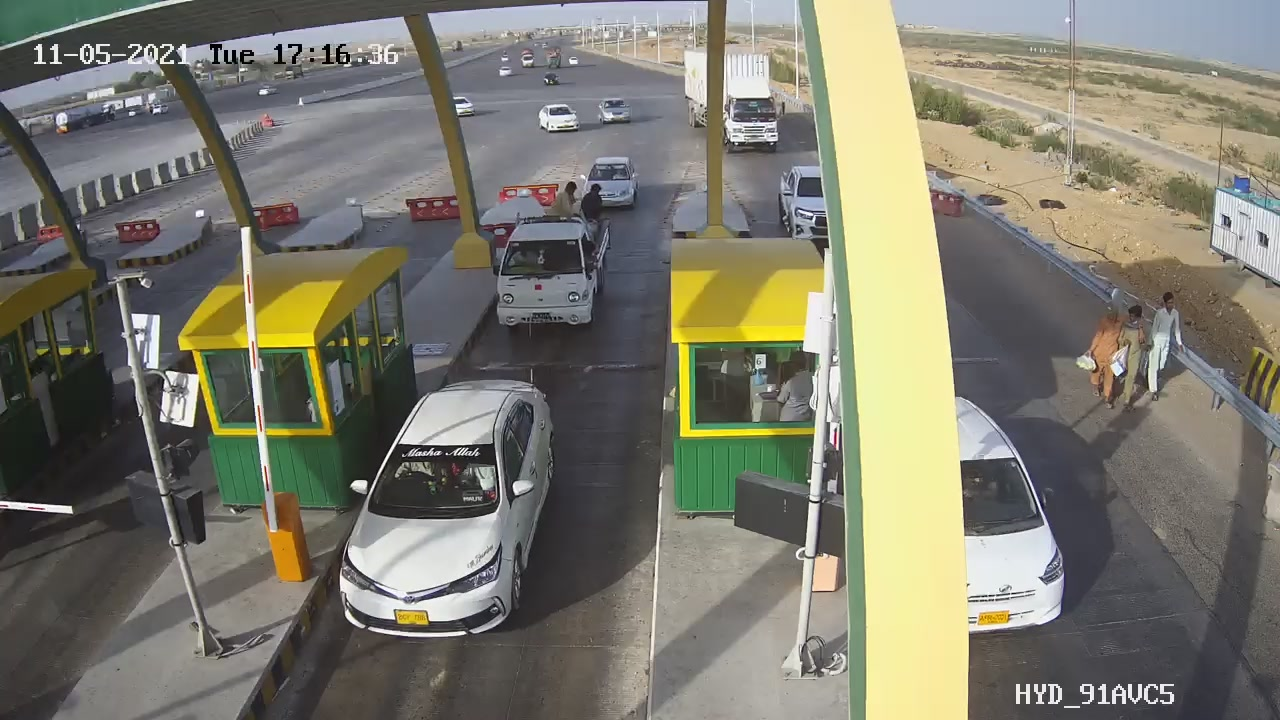F1: (325, 382, 575, 645)
F2: (478, 201, 630, 339)
